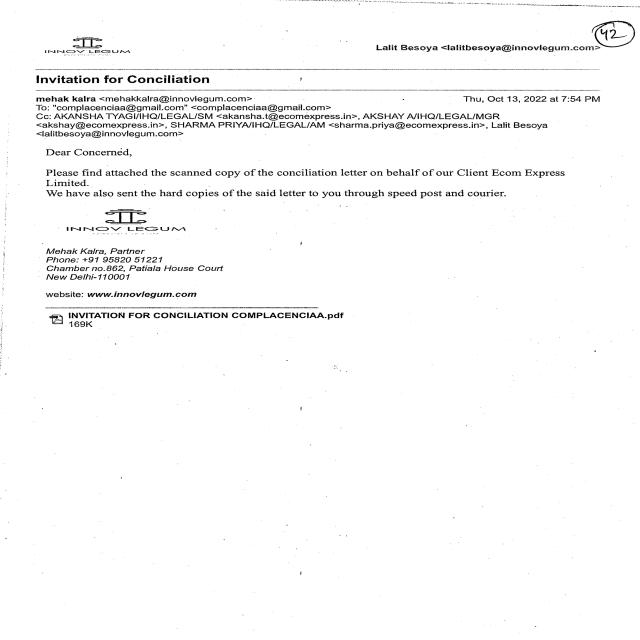page-number: (442, 10, 637, 48)
